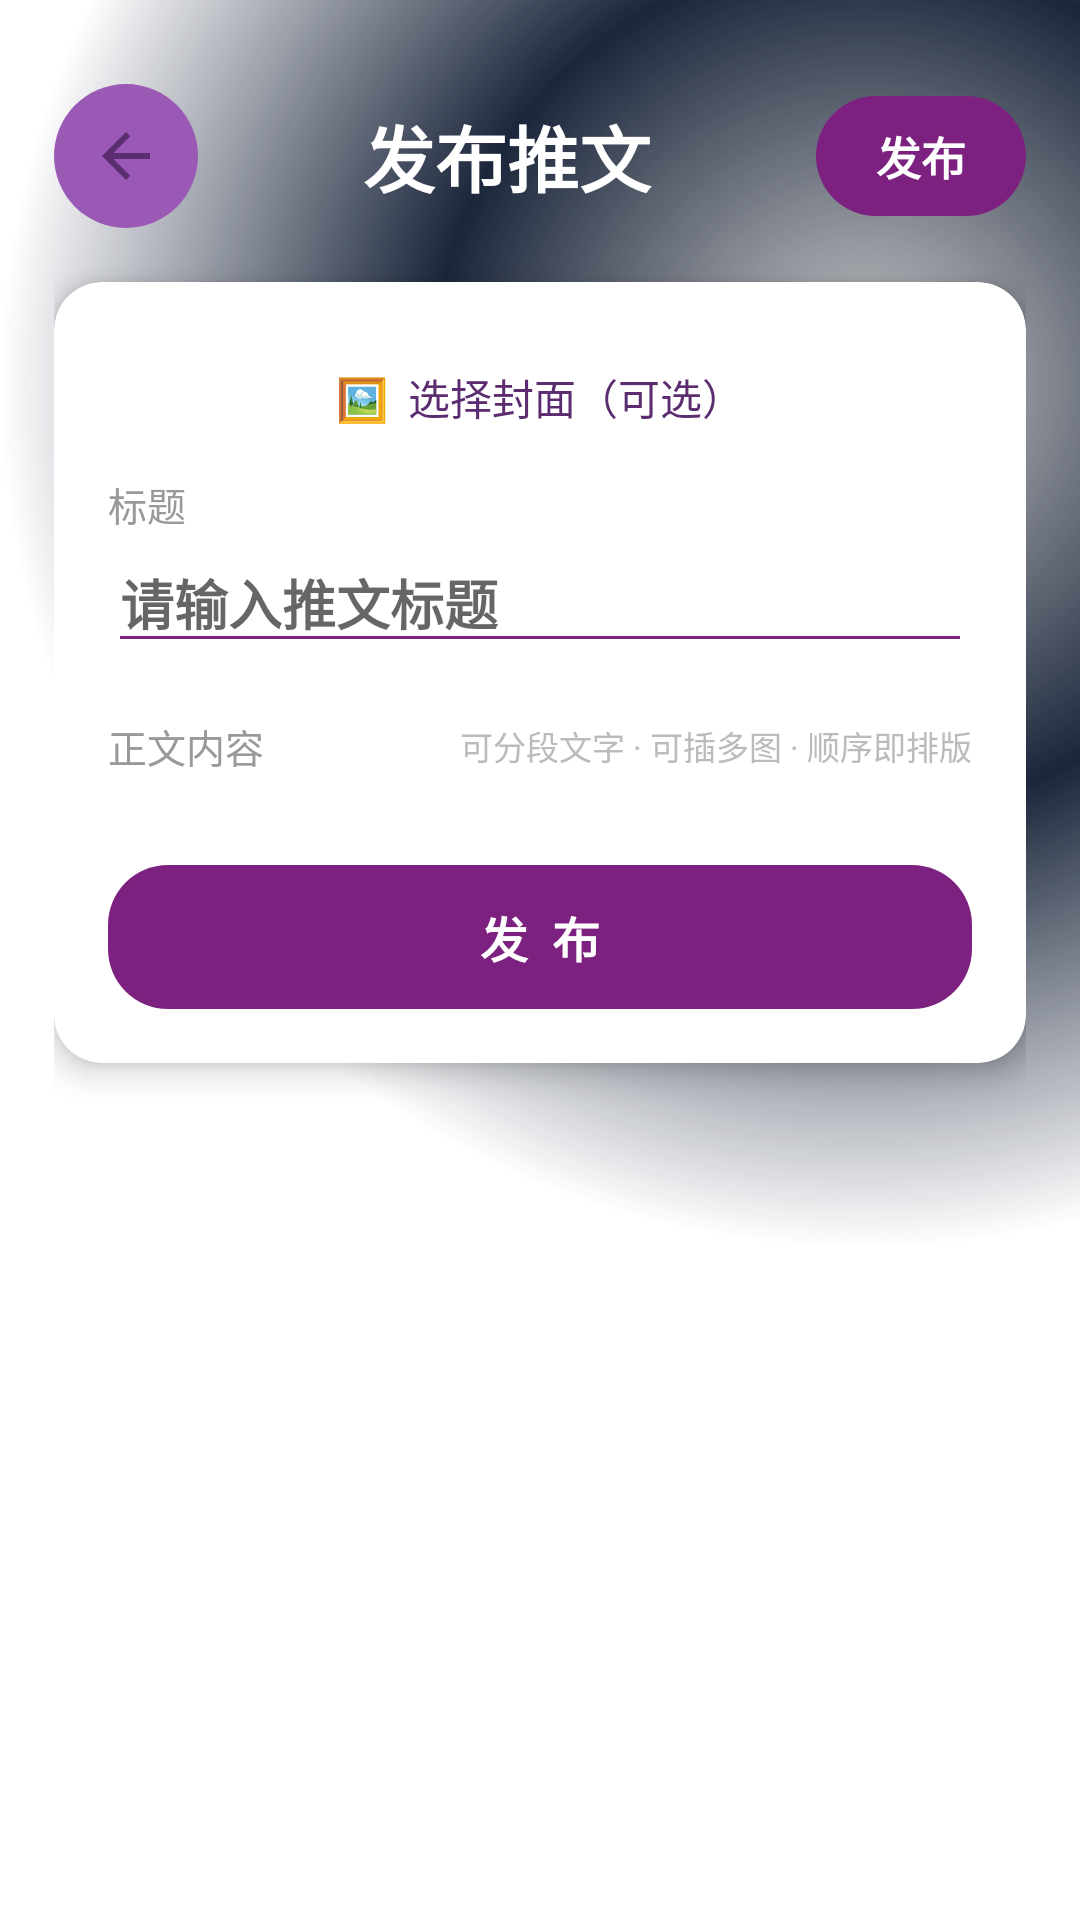

Icon click points for this 1080 x 1920 phone screenshot, format (x,y):
返回: (126,156)
